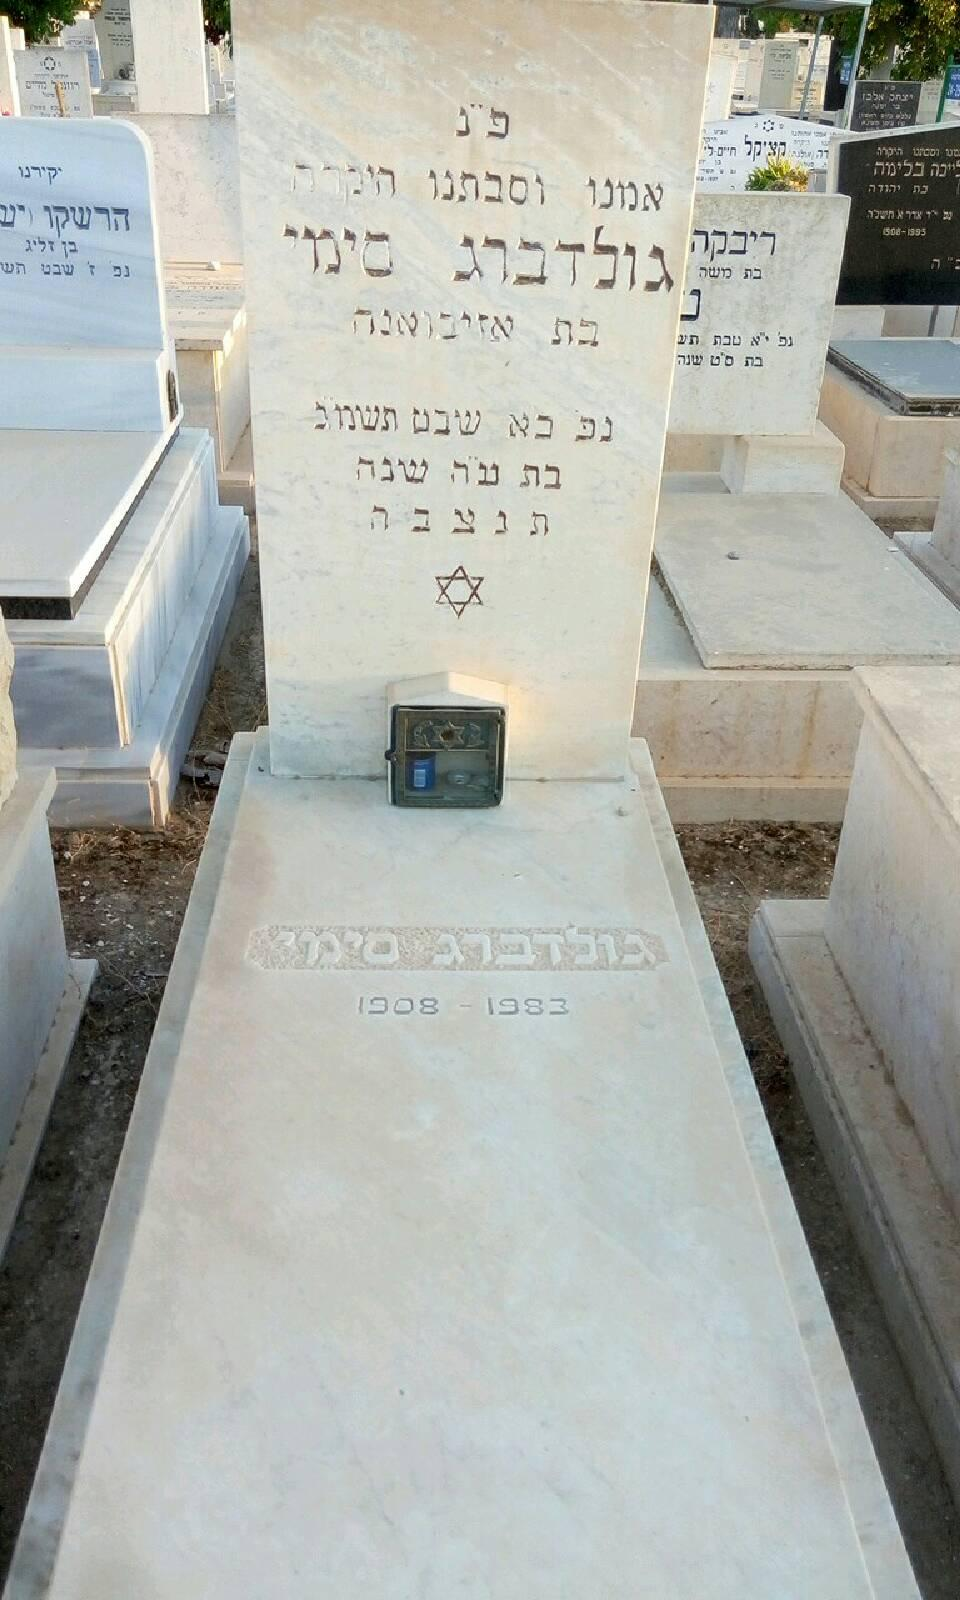vault: (19, 0, 938, 1574)
